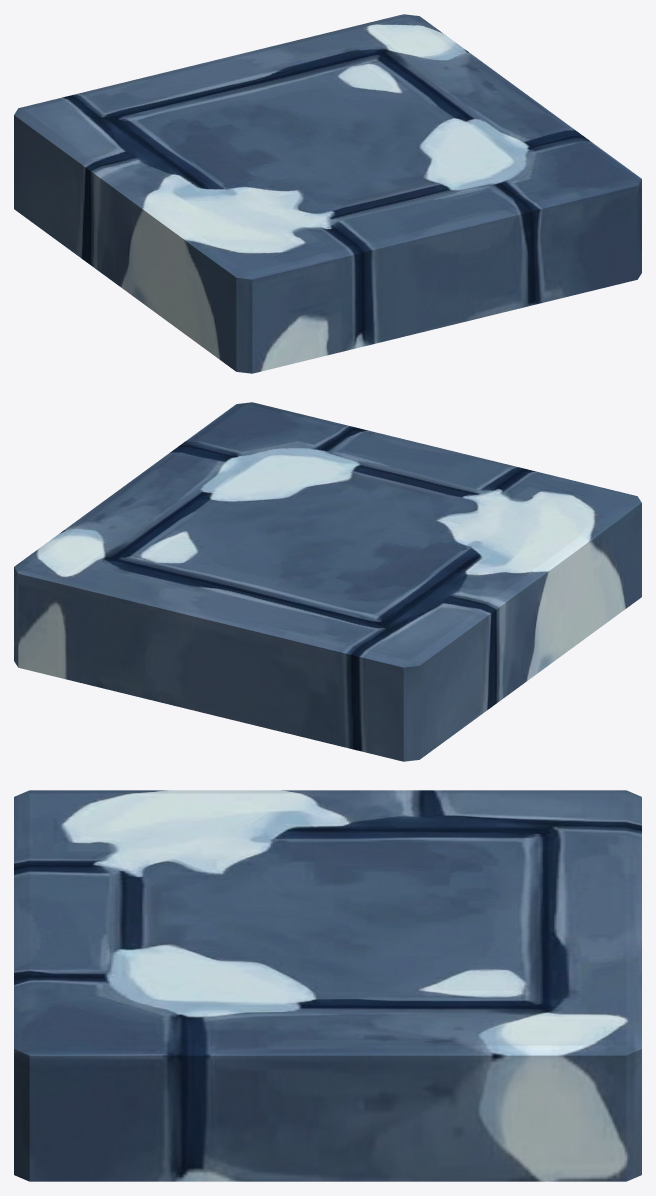
Rendered from stoneTiles09.glb.
3 renders of one model, top to bottom at view 1: azimuth 30°, elevation 25°; view 2: azimuth 150°, elevation 25°; view 3: azimuth 270°, elevation 25°, orthographic. The views are drawn at different scales.
Visible parts, largest first — view 1: StoneTiles09; view 2: StoneTiles09; view 3: StoneTiles09.
Part boxes in pixels (x1=…): StoneTiles09: x1=14, y1=14, x2=641, y2=373; StoneTiles09: x1=14, y1=402, x2=641, y2=761; StoneTiles09: x1=14, y1=790, x2=641, y2=1181.
Size of the model in its own units: 3 by 0.7 by 3.
Materials: 1 (1 with a texture image).
